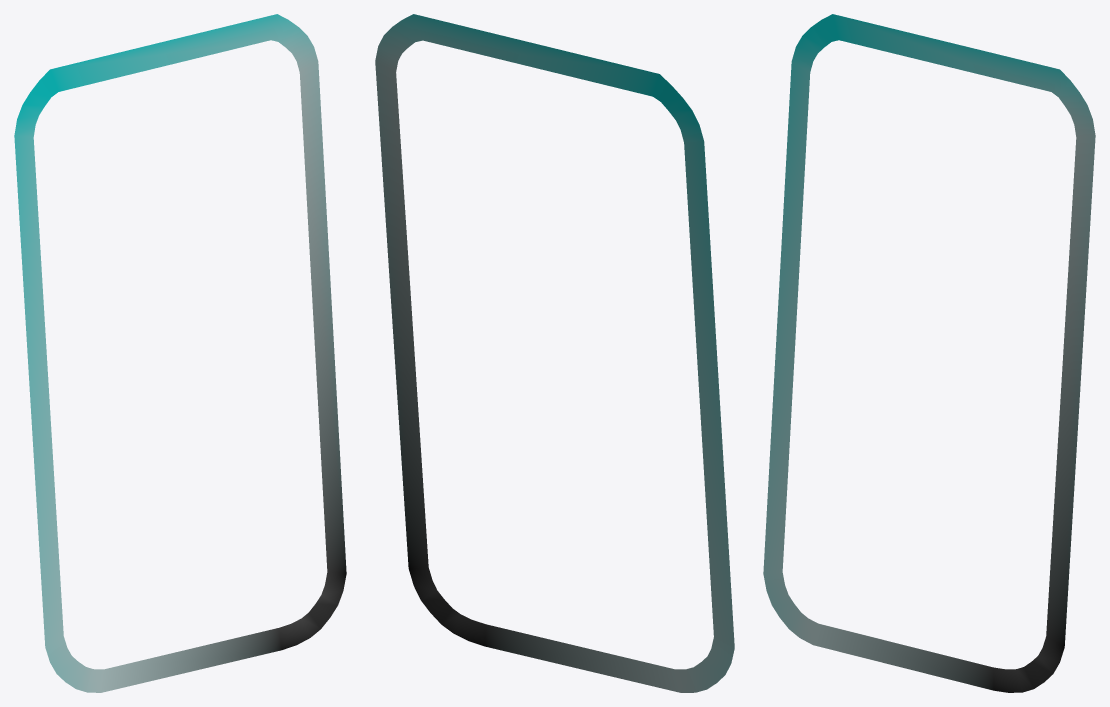
File: SM_window_edgedirt_05.fbx
The picture shows the model from 3 angles, left to right: view 1: azimuth 30°, elevation 25°; view 2: azimuth 150°, elevation 25°; view 3: azimuth 330°, elevation 25°; orthographic projection. The views are drawn at different scales.
Parts seen in each view (by area): view 1: SM_window_edgedirt_05; view 2: SM_window_edgedirt_05; view 3: SM_window_edgedirt_05.
Boxes of the visible parts, x1=… form: SM_window_edgedirt_05: x1=14, y1=14, x2=346, y2=692; SM_window_edgedirt_05: x1=375, y1=14, x2=734, y2=692; SM_window_edgedirt_05: x1=763, y1=14, x2=1095, y2=692.
Size of the model in its own units: 38.12 by 7.68 by 72.24.
